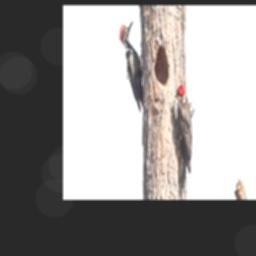Woodpecker: (119, 19, 144, 112), (174, 84, 192, 199)
